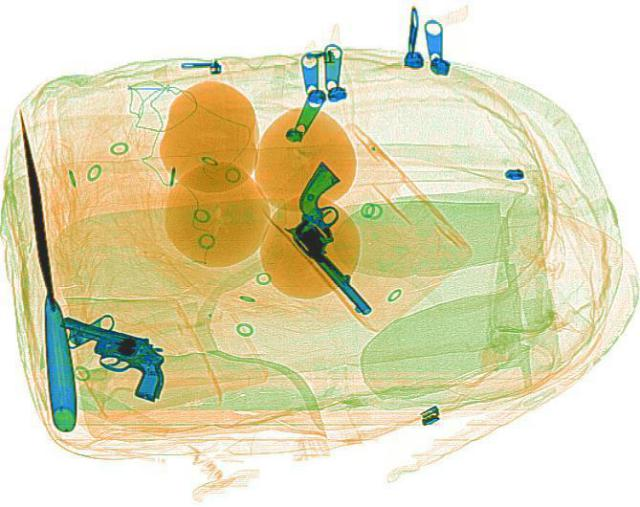Gun: (249, 159, 433, 314), (32, 310, 186, 401)
Knife: (7, 108, 81, 431)
